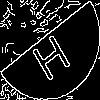H: (25, 25, 73, 83)
